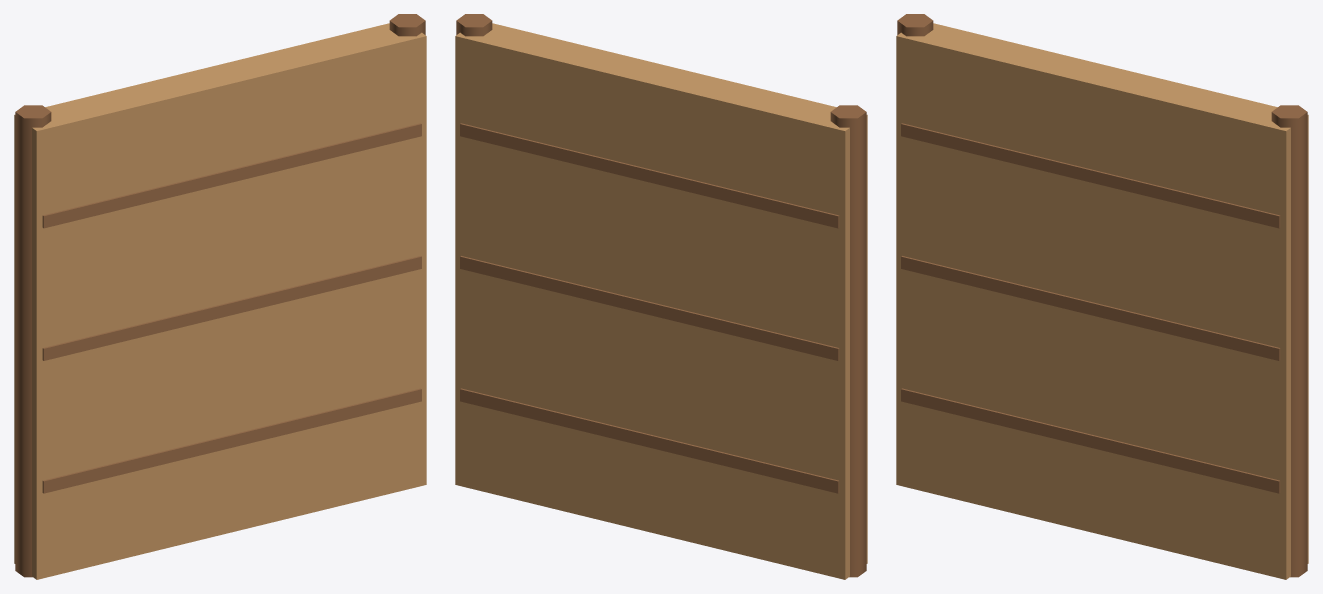
Rendered from wall.glb.
3 views of the same model, side by side, from view 1: azimuth 30°, elevation 25°; view 2: azimuth 150°, elevation 25°; view 3: azimuth 330°, elevation 25° (orthographic).
Size of the model in its own units: 2.06 by 2.25 by 0.22.
